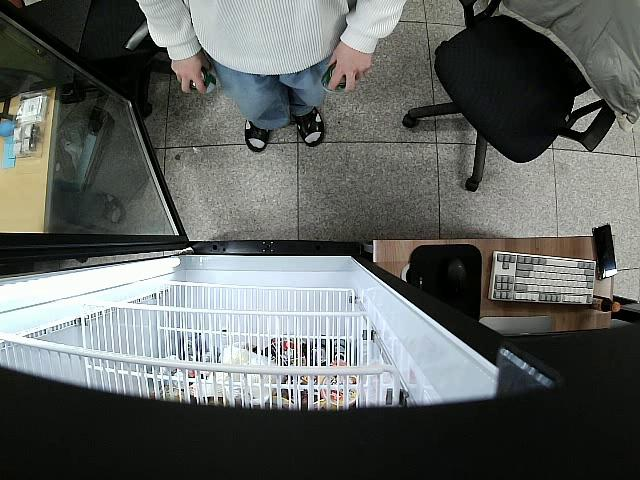00_hand: (328, 45, 373, 95), (170, 51, 213, 95)
12_chilsungCider: (188, 66, 217, 95), (321, 65, 345, 96)
